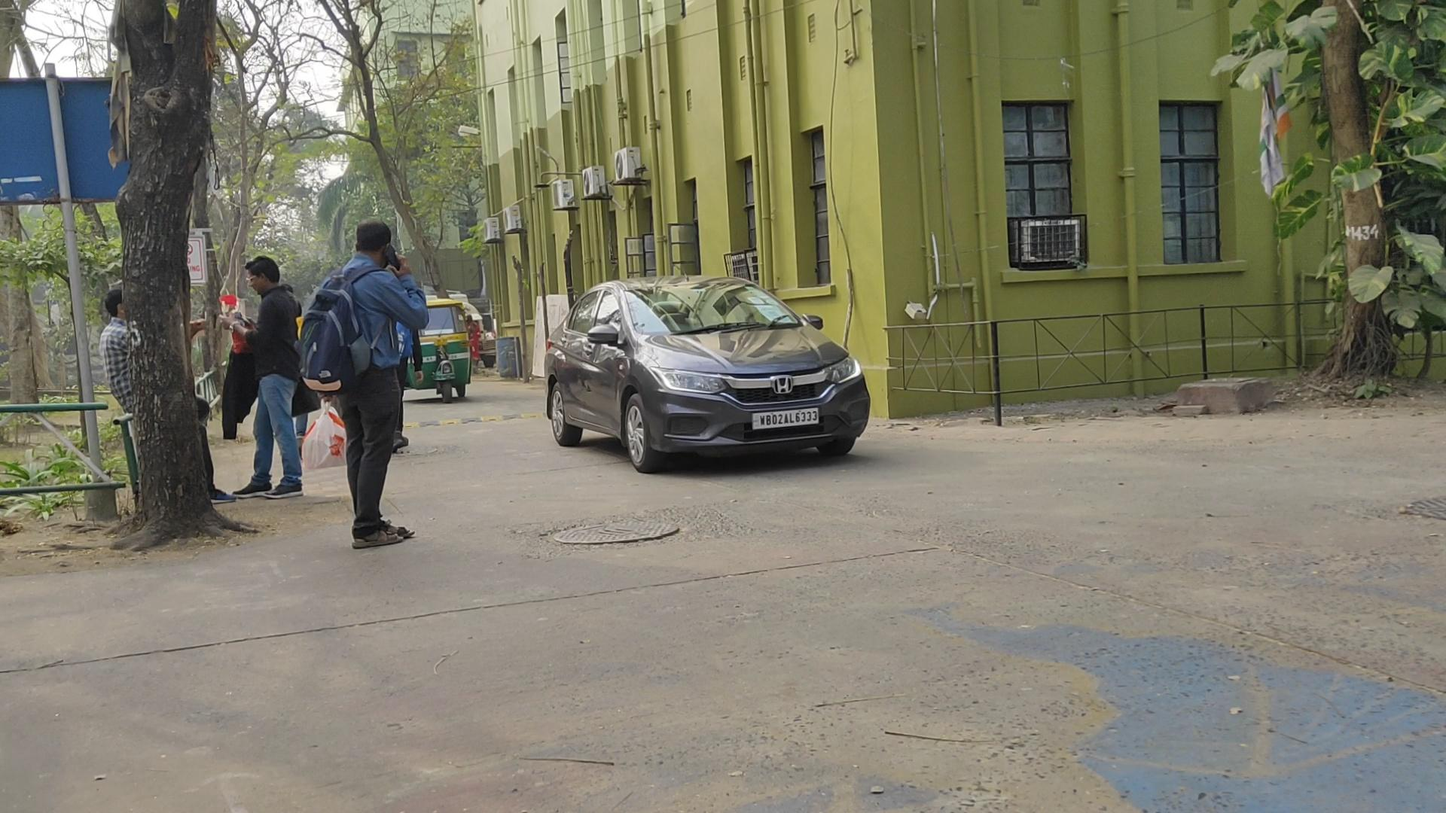Auto: (396, 298, 472, 403)
car: (544, 275, 871, 473)
